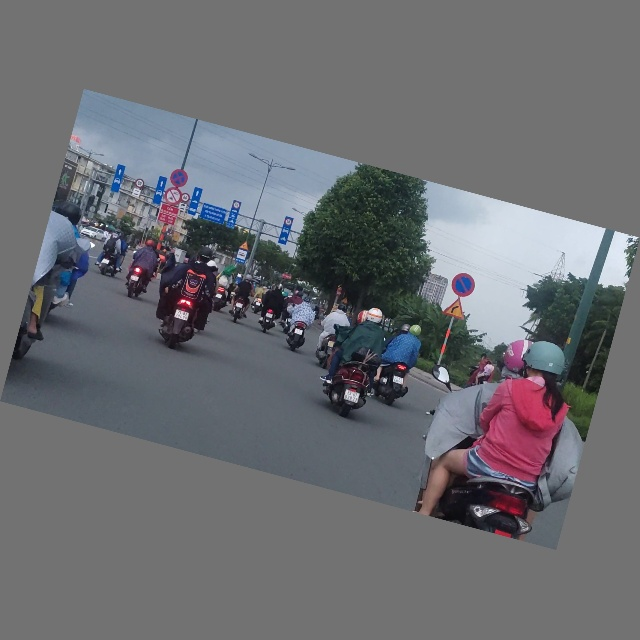I.434a: (235, 250, 249, 265)
P.111: (162, 186, 184, 208)
P.127*50: (232, 201, 241, 210), (284, 219, 292, 227)
P.127*80: (134, 177, 145, 189)
P.130: (168, 167, 190, 190)
P.131a: (449, 271, 477, 301)
S.505a*Xe tai va cong: (178, 203, 187, 213)
W.201b: (442, 296, 469, 321), (238, 240, 251, 252)
